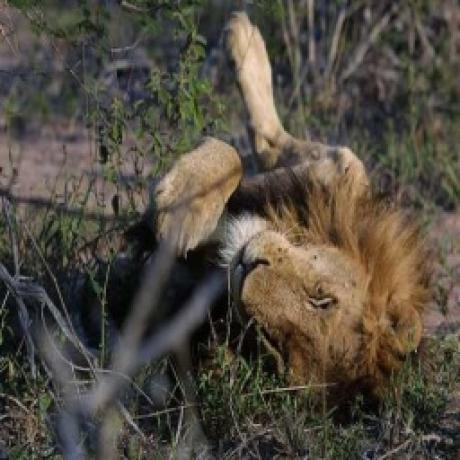Lion: (142, 15, 428, 399)
